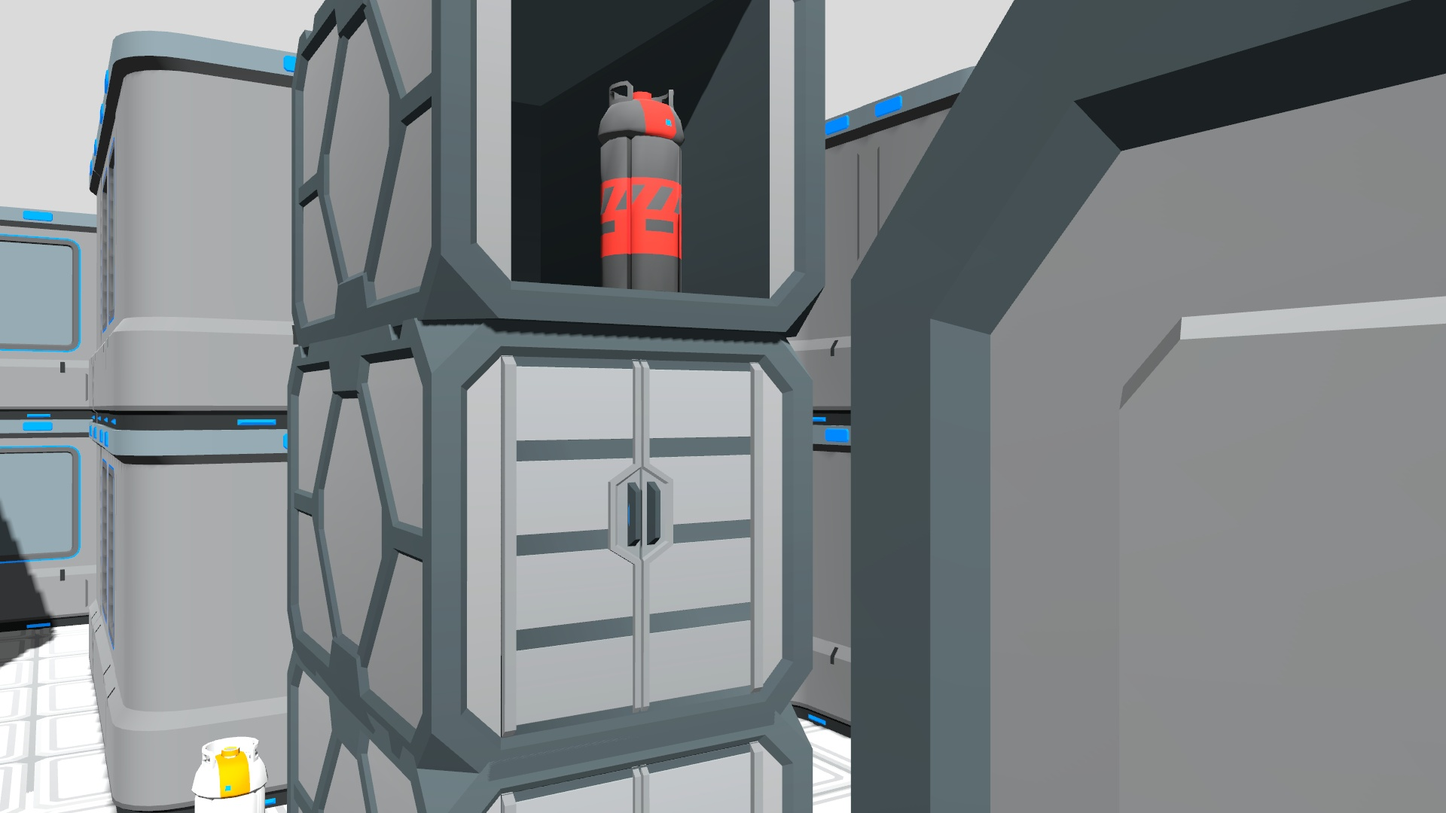red_barrel: (597, 77, 695, 302)
yellow_barrel: (188, 734, 277, 813)
